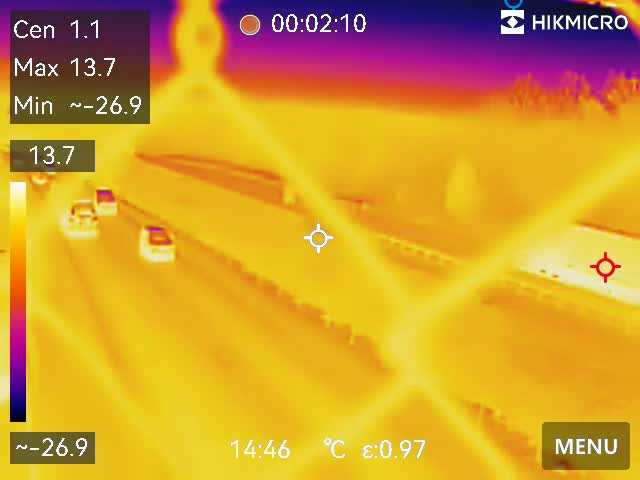heavyTruck: (520, 214, 640, 304)
vehicle: (55, 196, 99, 239), (139, 221, 183, 263), (95, 183, 121, 220)
